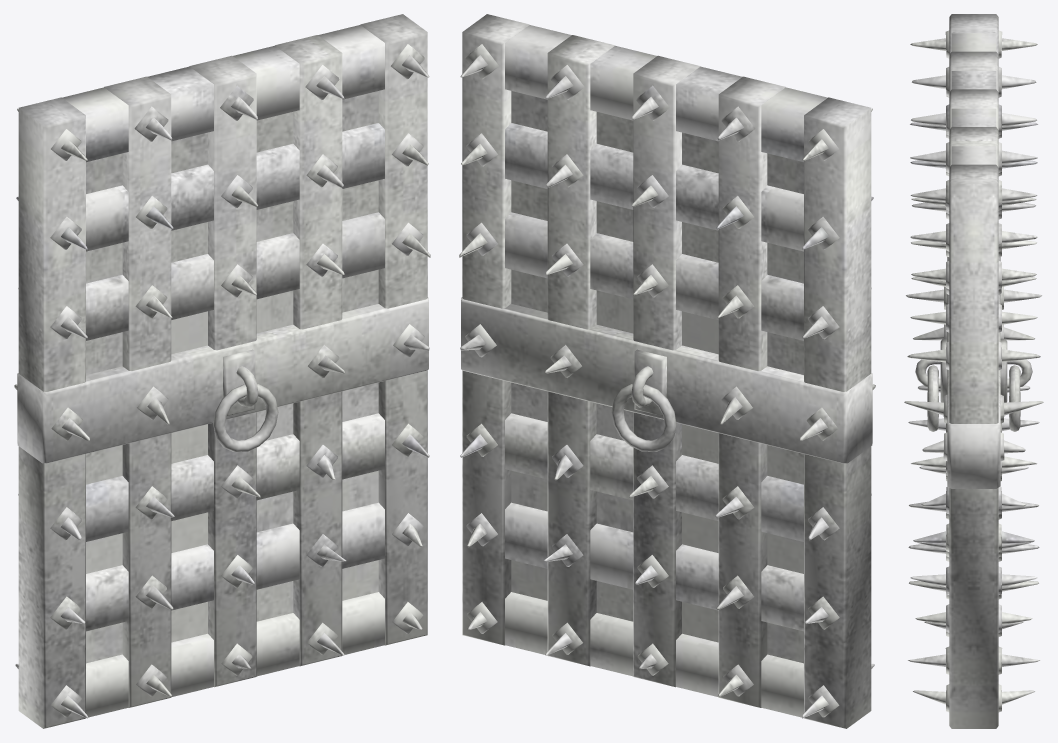
Rendered from spiked_door_bar.fbx.
The picture shows the model from 3 angles, left to right: view 1: azimuth 30°, elevation 25°; view 2: azimuth 150°, elevation 25°; view 3: azimuth 270°, elevation 25°; orthographic projection. The views are drawn at different scales.
Parts seen in each view (by area): view 1: spiked_door_bar; view 2: spiked_door_bar; view 3: spiked_door_bar.
Boxes of the visible parts, x1,y1,x2,y2 form: spiked_door_bar: (14, 14, 430, 728); spiked_door_bar: (459, 14, 875, 728); spiked_door_bar: (904, 14, 1043, 728).
Bounding box in the file's own units: 2.63 × 3.92 × 0.9101.
